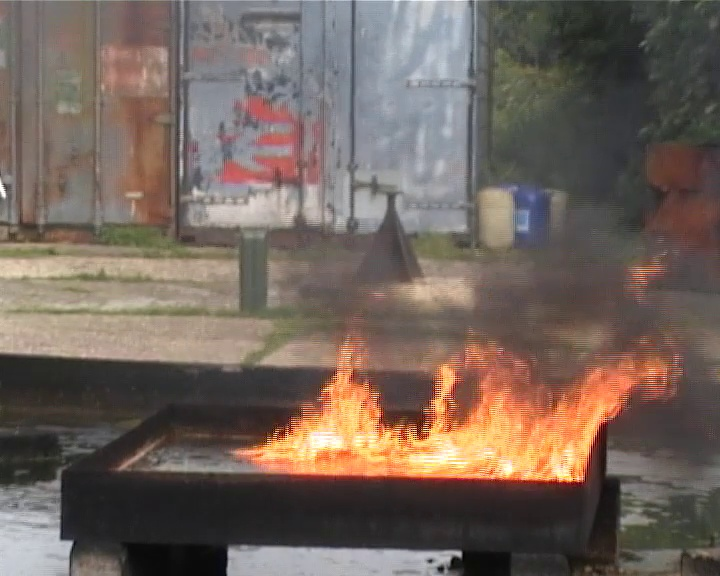fire: (249, 343, 659, 480)
